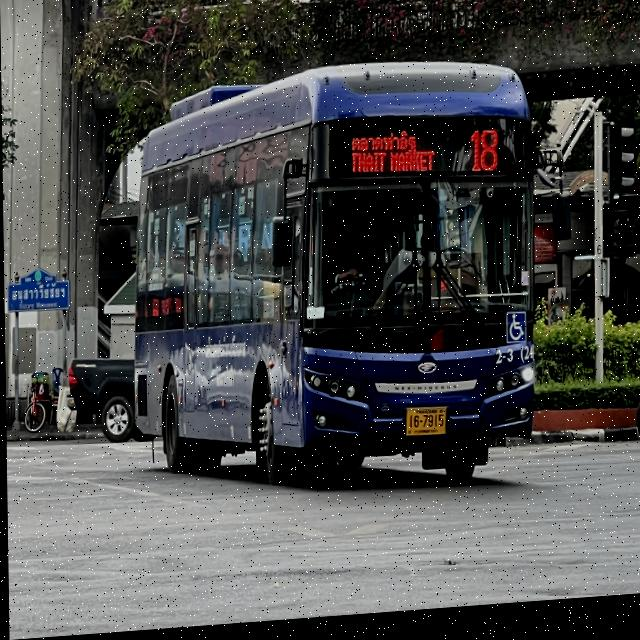Bus-Line-Number: (457, 123, 510, 187)
Destination-Sign-Normal: (348, 125, 439, 189)
TSB-Bus: (127, 59, 540, 507)
